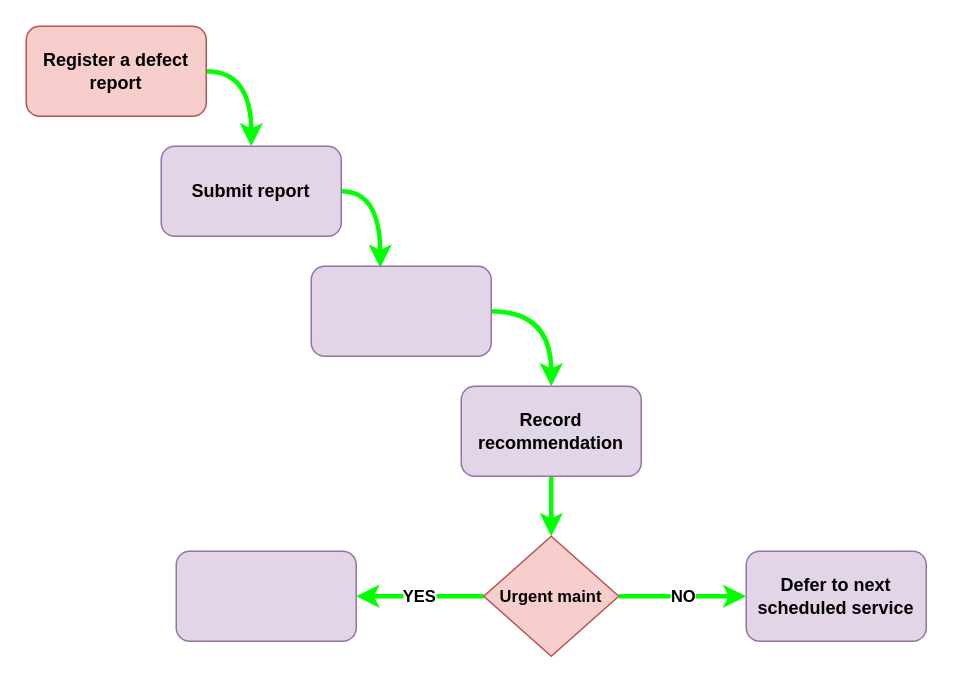
Image size: 953x683. Some labels were removed from this diagram. Here are the shapes that lost their labels. From the top down, the centre of each, then its label:
At pixel 400 310: "Review report".
At pixel 265 595: "Issue Maintenance Order".
